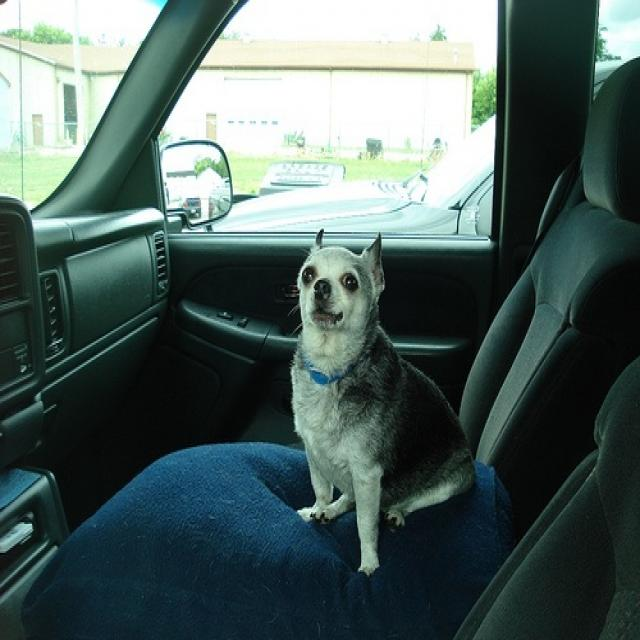dog: (289, 224, 475, 574)
